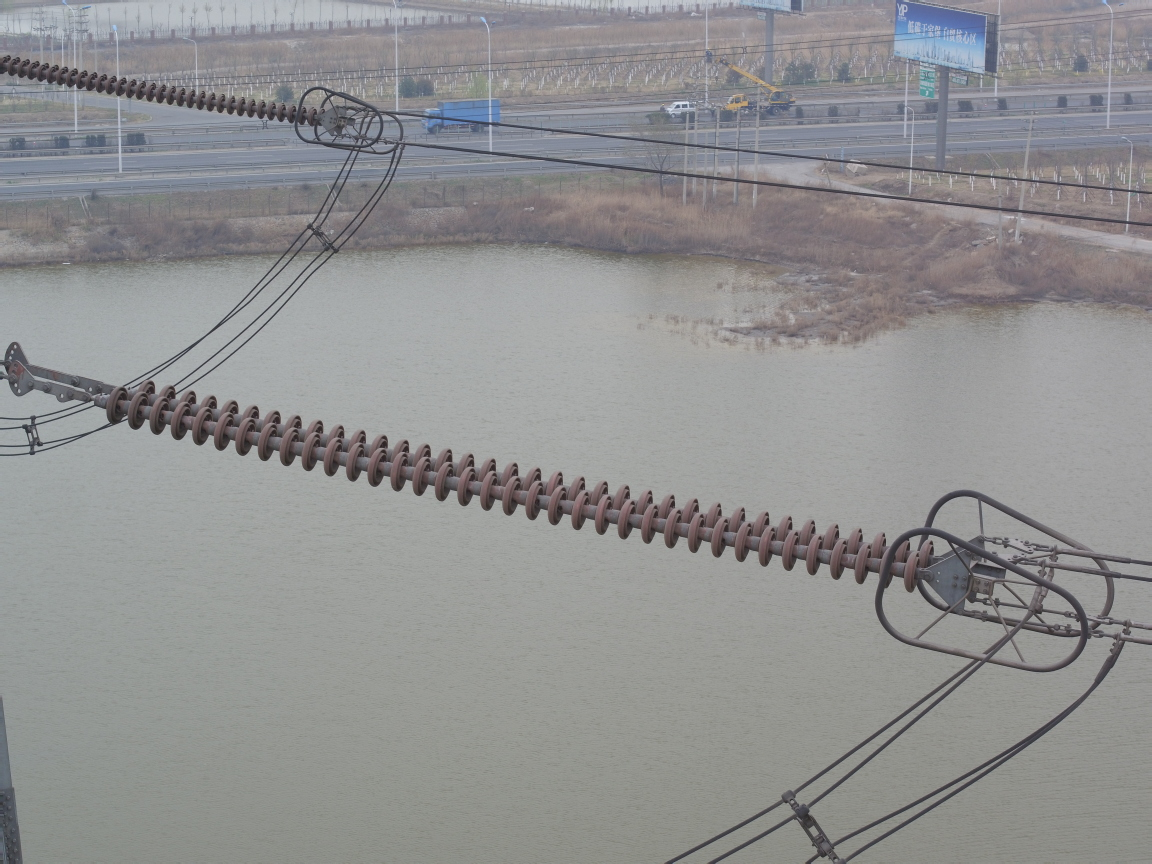insulator: (57, 370, 942, 596), (1, 48, 329, 131)
